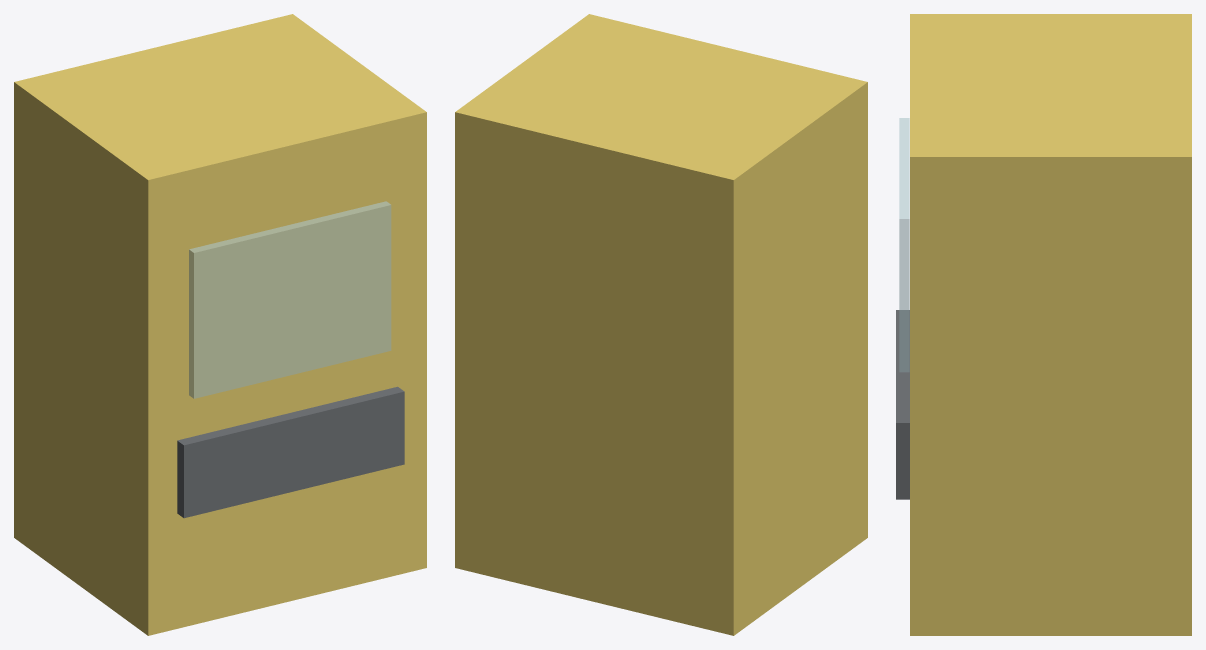
The model's file is newspaper_box_02.glb.
The picture shows the model from 3 angles, left to right: view 1: azimuth 30°, elevation 25°; view 2: azimuth 150°, elevation 25°; view 3: azimuth 270°, elevation 25°; orthographic projection. The views are drawn at different scales.
Parts seen in each view (by area): view 1: body, window, door; view 2: body; view 3: body, window, door.
Boxes of the visible parts, x1=… form: body: x1=14, y1=14, x2=426, y2=635; window: x1=189, y1=201, x2=391, y2=398; door: x1=177, y1=386, x2=404, y2=518; body: x1=455, y1=14, x2=867, y2=635; body: x1=910, y1=14, x2=1191, y2=635; window: x1=899, y1=118, x2=909, y2=372; door: x1=896, y1=310, x2=909, y2=499.
Bounding box in the file's own units: 0.48 × 0.75 × 0.42.
